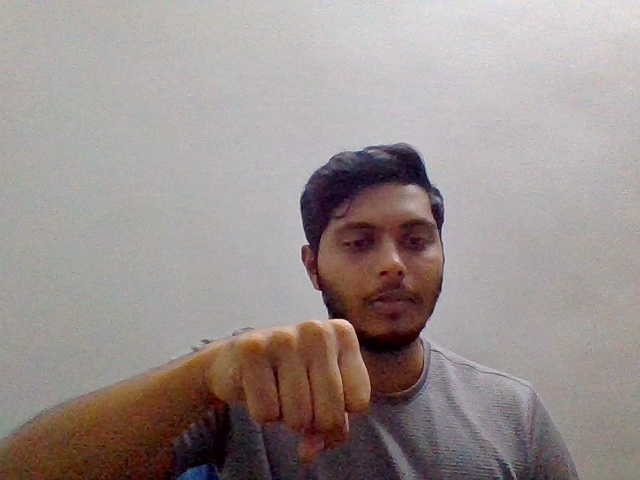Yes: (179, 314, 380, 464)
